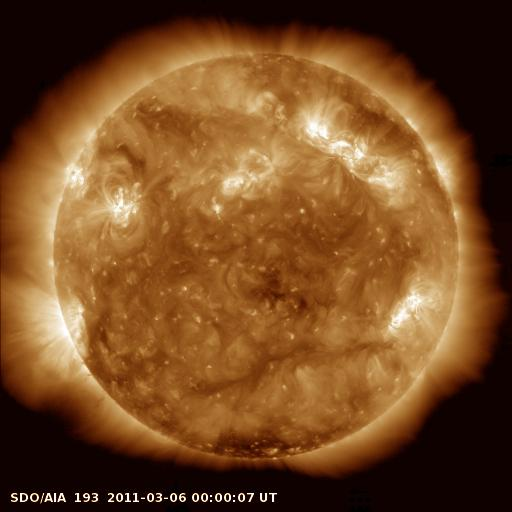coronal_hole: (203, 421, 333, 461)
